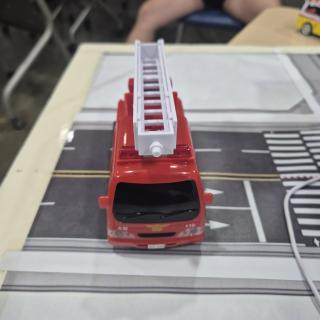Fire_truck: (99, 39, 213, 249)
